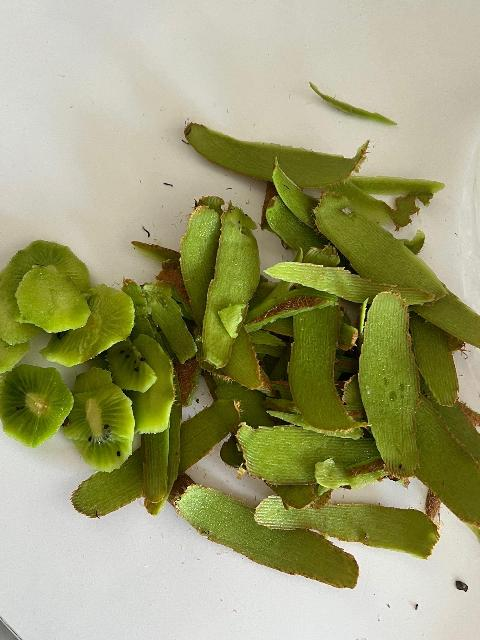Organik: (194, 217, 466, 481), (169, 475, 361, 588), (253, 498, 447, 542), (2, 244, 84, 347), (69, 375, 153, 459), (0, 364, 77, 447)
